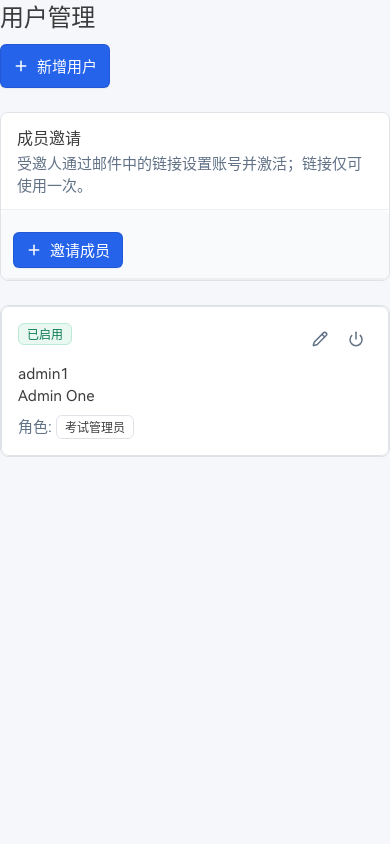
it: UsersPage › opens edit dialog for Admin
Click the button named "编辑用户". click: [320, 339]
box: x1=304 y1=323 x2=336 y2=355
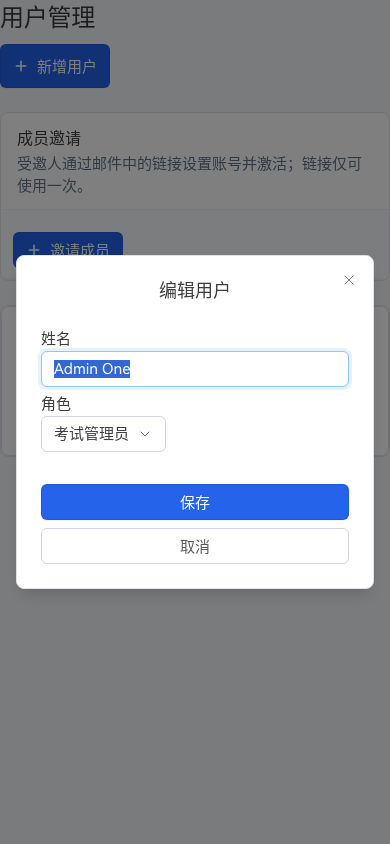
Now the heading "编辑用户" is shown, box x1=159 y1=276 x2=231 y2=302
Now the dialog is shown, box x1=16 y1=255 x2=374 y2=589
